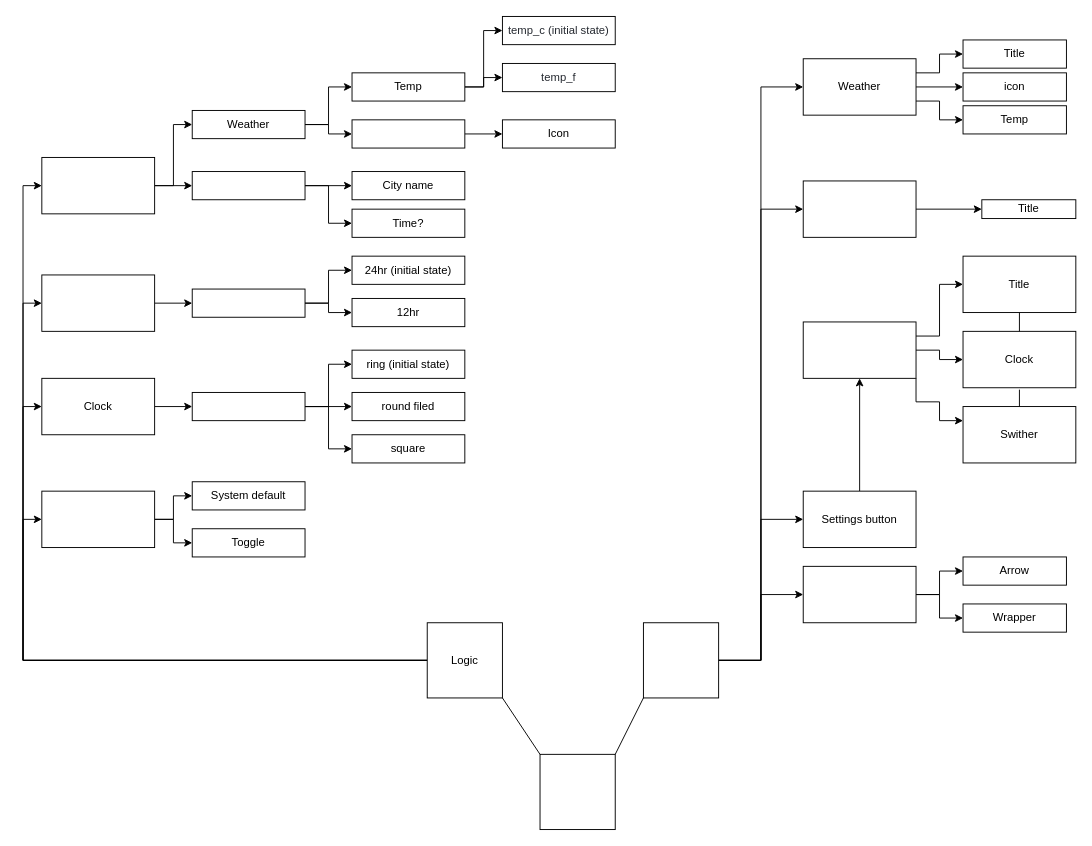
This 1092x846 diagram has some shape labels left out. Each missing label, with the centre of its shape:
Analog clock: point (859, 594)
API: point (98, 185)
Components: point (680, 660)
Condition: point (408, 133)
Digital clock: point (859, 208)
Format: point (248, 302)
Location: point (248, 185)
Settings: point (859, 349)
Style: point (248, 406)
Theme: point (98, 519)
Time: point (98, 302)
UI: point (577, 791)
